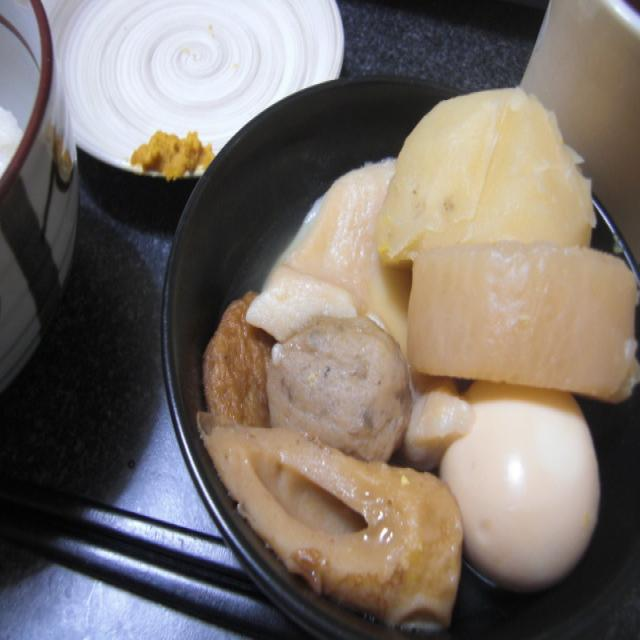汤锅炖物: (192, 88, 640, 640)
